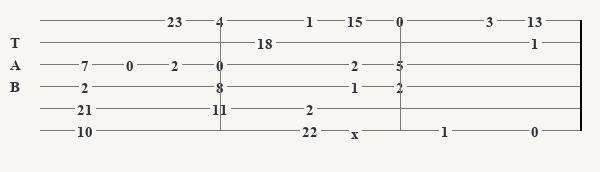0: (126, 57, 138, 71), (216, 57, 228, 71), (396, 13, 408, 27), (531, 123, 543, 137)
1: (306, 13, 318, 27), (351, 79, 363, 93), (441, 123, 453, 137), (531, 35, 543, 49)
10: (77, 123, 97, 137)
11: (212, 101, 232, 115)
13: (527, 13, 547, 27)
15: (347, 13, 367, 27)
18: (257, 35, 277, 49)
2: (81, 79, 93, 93), (171, 57, 183, 71), (306, 101, 318, 115), (351, 57, 363, 71), (396, 79, 408, 93)
21: (77, 101, 97, 115)
22: (302, 123, 322, 137)
23: (167, 13, 187, 27)
3: (486, 13, 498, 27)
4: (216, 13, 228, 27)
5: (396, 57, 408, 71)
7: (81, 57, 93, 71)
8: (216, 79, 228, 93)
x: (351, 125, 363, 136)
